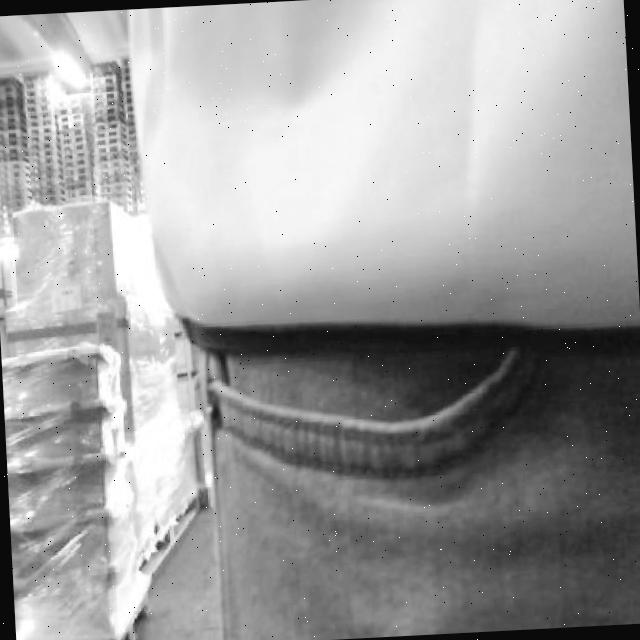pallet: (0, 50, 218, 640), (2, 336, 140, 640), (0, 54, 145, 229)
